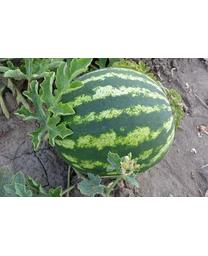watermelon: (48, 68, 174, 176)
